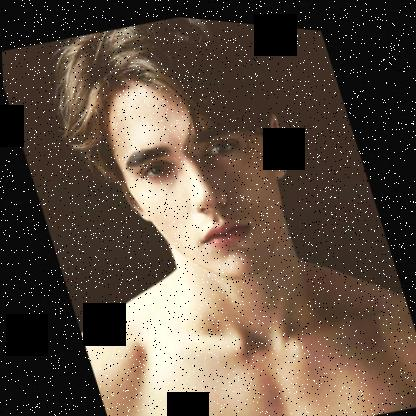Male: (93, 44, 323, 306)
